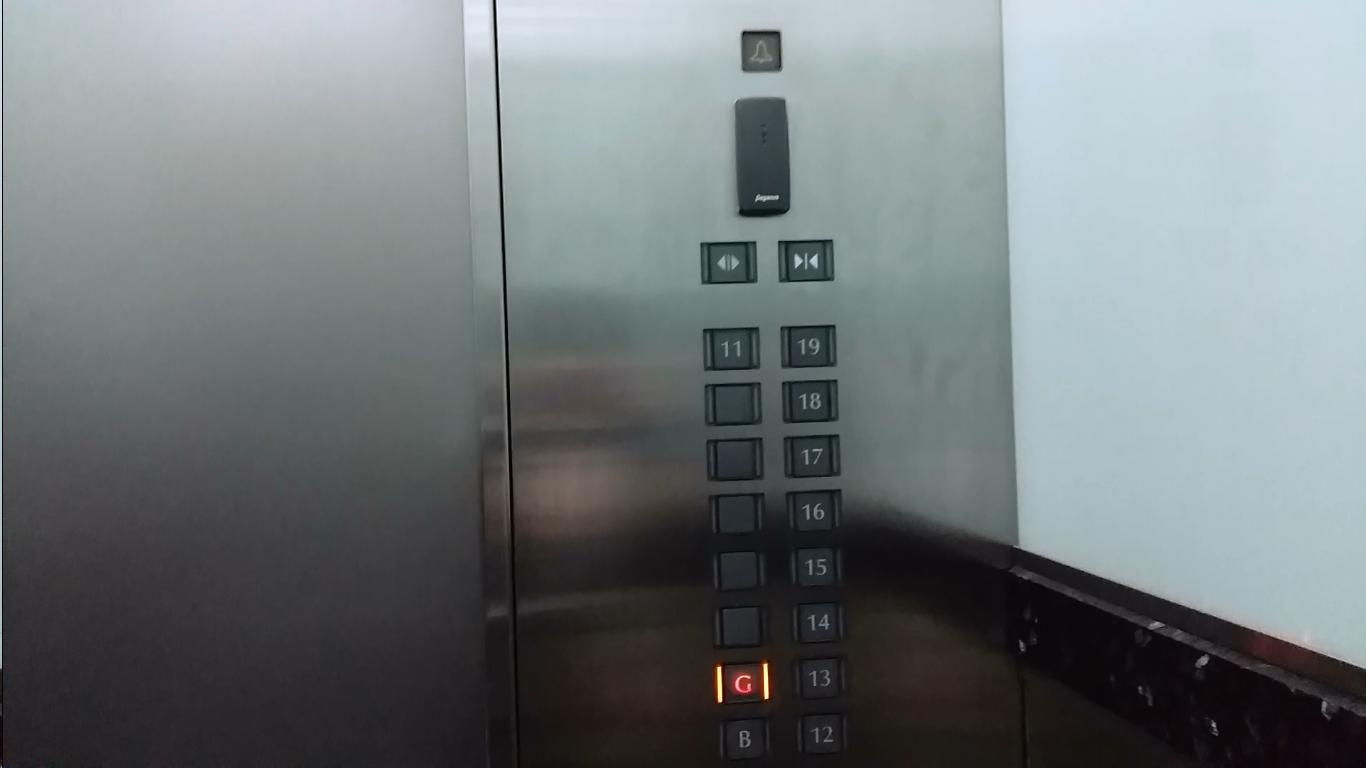11: (700, 326, 762, 373)
12: (792, 710, 852, 756)
13: (790, 655, 850, 701)
14: (789, 599, 849, 645)
15: (786, 543, 846, 589)
16: (784, 488, 844, 534)
17: (782, 433, 842, 479)
18: (781, 378, 841, 424)
19: (778, 323, 838, 369)
B: (714, 715, 774, 761)
G: (712, 659, 772, 705)
alarm: (739, 28, 784, 74)
close: (774, 237, 838, 283)
empty: (702, 380, 764, 427), (703, 435, 765, 482), (705, 490, 767, 537), (708, 547, 770, 594), (708, 602, 770, 649)
open: (697, 239, 759, 286)
